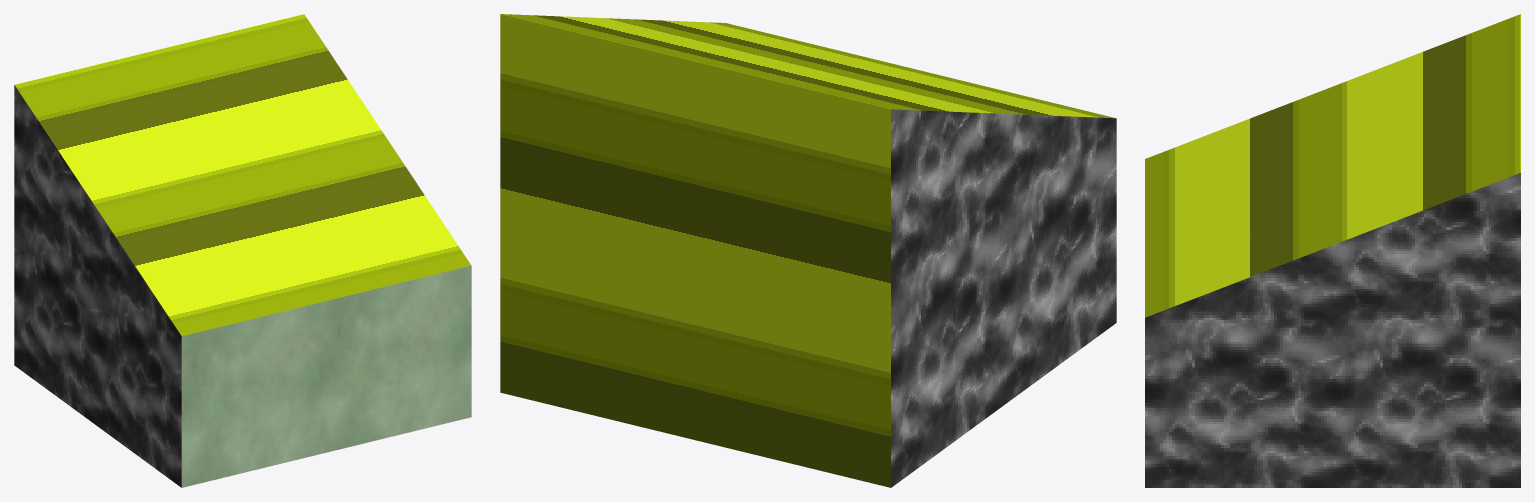
The model's file is 3ds_simple.FBX.
3 renders of one model, left to right at view 1: azimuth 30°, elevation 25°; view 2: azimuth 150°, elevation 25°; view 3: azimuth 270°, elevation 25°, orthographic. The views are drawn at different scales.
Parts seen in each view (by area): view 1: simple_SKP__Material2, simple_SKP__Wax_02, simple_SKP__Material1; view 2: simple_SKP__Material2, simple_SKP__Material1; view 3: simple_SKP__Material1, simple_SKP__Material2.
Part boxes in pixels (x1,y1,x2,y2): simple_SKP__Material2: (15, 14, 471, 336); simple_SKP__Wax_02: (181, 265, 471, 487); simple_SKP__Material1: (14, 85, 181, 487); simple_SKP__Material2: (500, 14, 1115, 487); simple_SKP__Material1: (891, 109, 1116, 487); simple_SKP__Material1: (1145, 173, 1520, 487); simple_SKP__Material2: (1145, 14, 1520, 317).
Bounding box in the file's own units: 4000 × 3704 × 4000.
3 materials, 3 textured.
